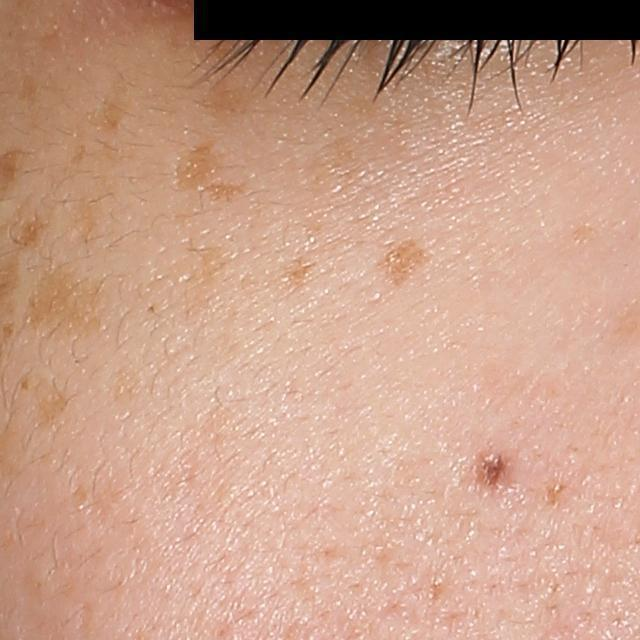melasma: (26, 268, 111, 344), (372, 235, 429, 292), (171, 136, 221, 191), (91, 77, 131, 139), (198, 78, 248, 123), (32, 390, 77, 432), (194, 177, 247, 208), (12, 215, 55, 253)
